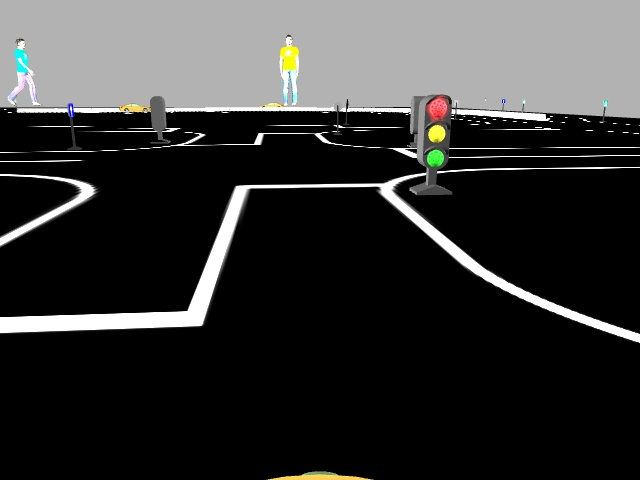TrafficLight: (418, 93, 451, 170)
